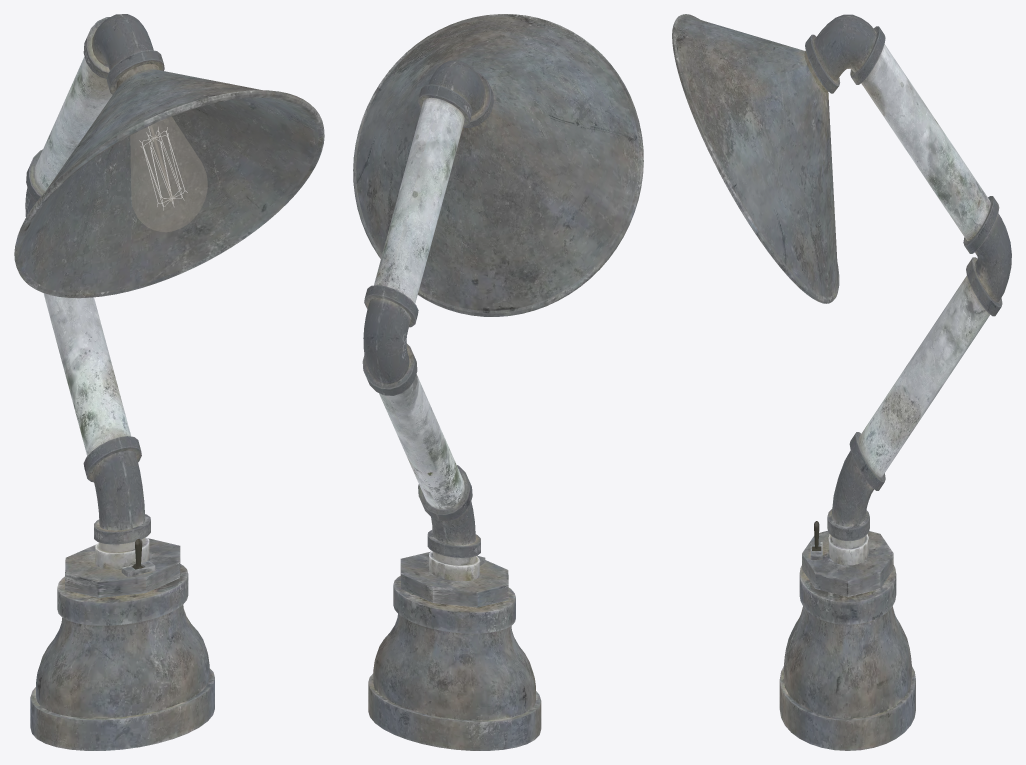
The model's file is industrial_pipe_lamp.glb.
The picture shows the model from 3 angles, left to right: view 1: azimuth 30°, elevation 25°; view 2: azimuth 150°, elevation 25°; view 3: azimuth 270°, elevation 25°; orthographic projection. The views are drawn at different scales.
Visible parts, largest first — view 1: industrial_pipe_lamp, industrial_pipe_lamp_bulb; view 2: industrial_pipe_lamp; view 3: industrial_pipe_lamp.
Part boxes in pixels (<box>): industrial_pipe_lamp: <box>14,14,324,750</box>; industrial_pipe_lamp_bulb: <box>130,116,207,231</box>; industrial_pipe_lamp: <box>353,14,643,750</box>; industrial_pipe_lamp: <box>672,14,1011,750</box>.
Bounding box in the file's own units: 0.2 × 0.45 × 0.2.
Materials: 2 (2 with a texture image).
